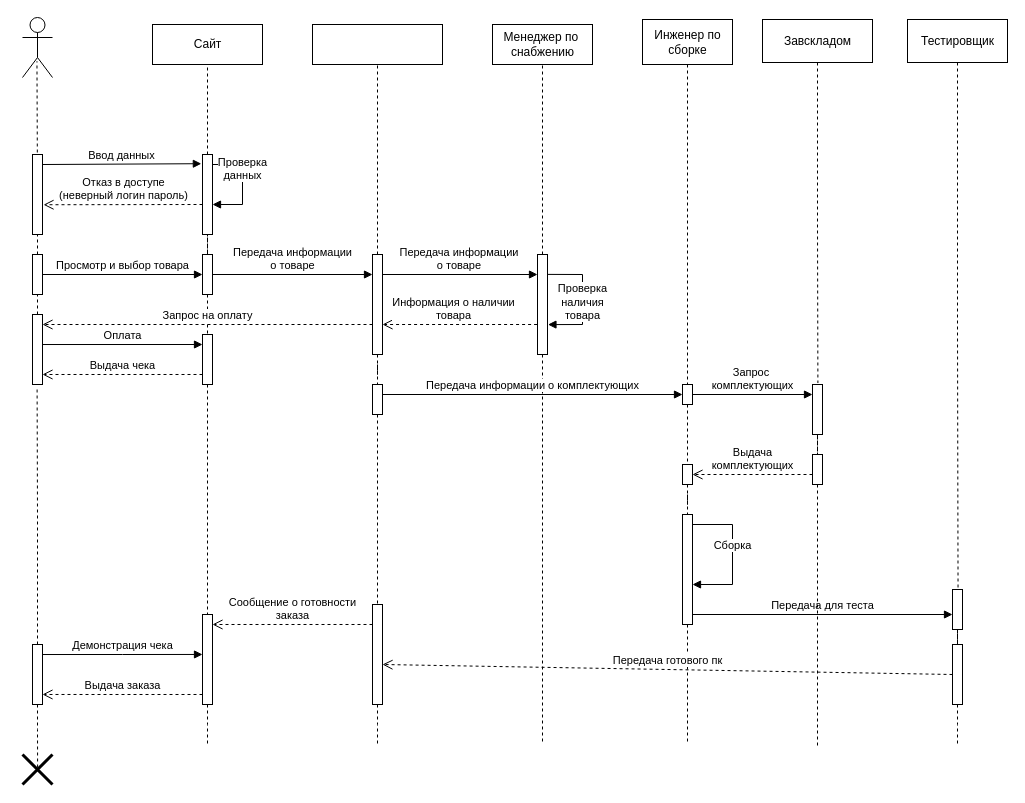
Image size: 1025x803. Some labels were removed from this diagram. The shapes that lost their labels are listed below. From the top down, each one's centre as x and y in pixels, then its label:
At (x=37, y=47): "Клиент".
At (x=377, y=44): "Менеджер по работе клиентами".
